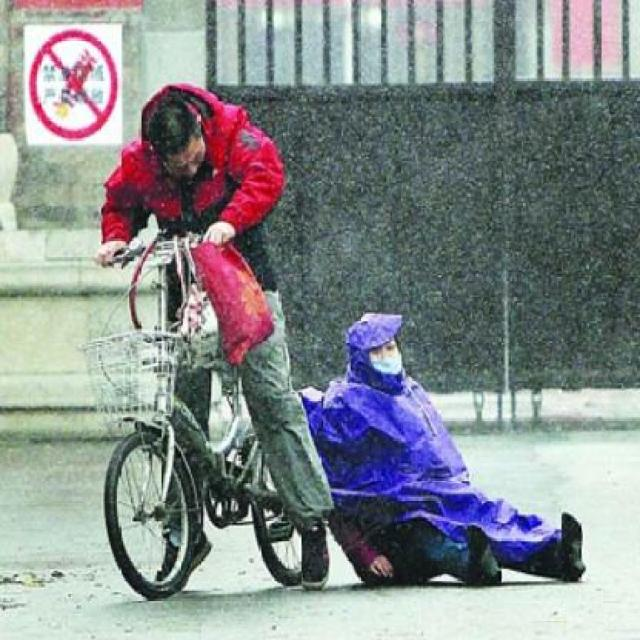fall: (296, 285, 607, 604)
